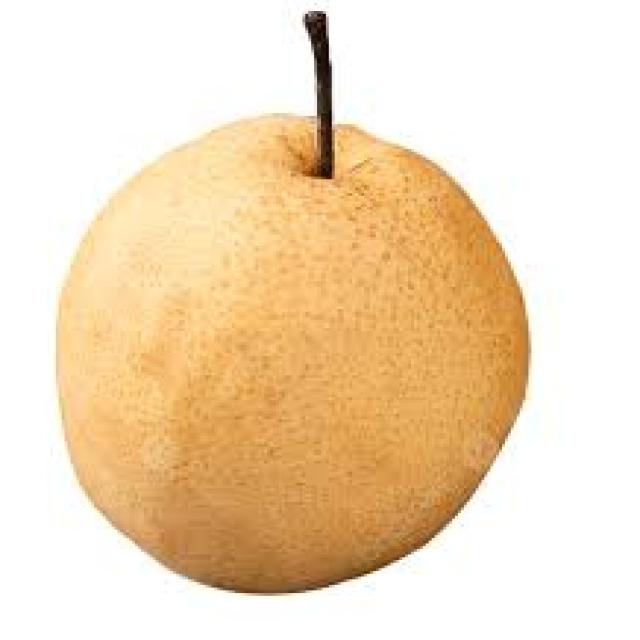Le: (47, 12, 536, 598)
